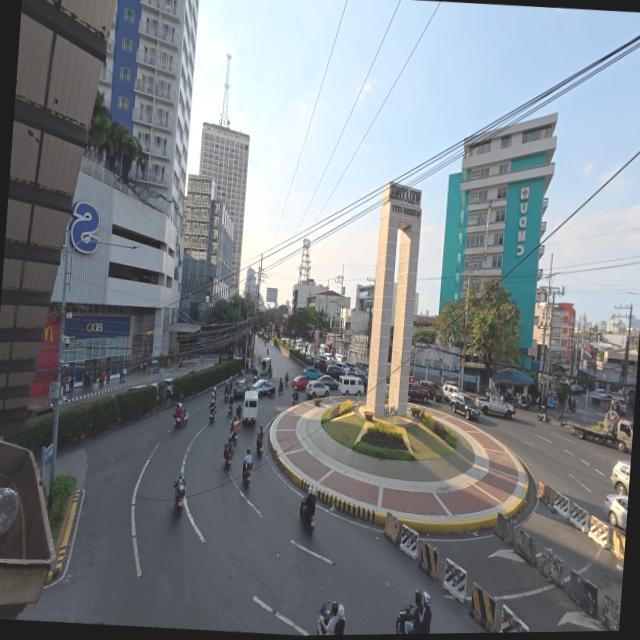car: (408, 379, 440, 405), (253, 378, 276, 397)
trucks: (481, 393, 517, 416)
vans: (334, 374, 366, 398)
